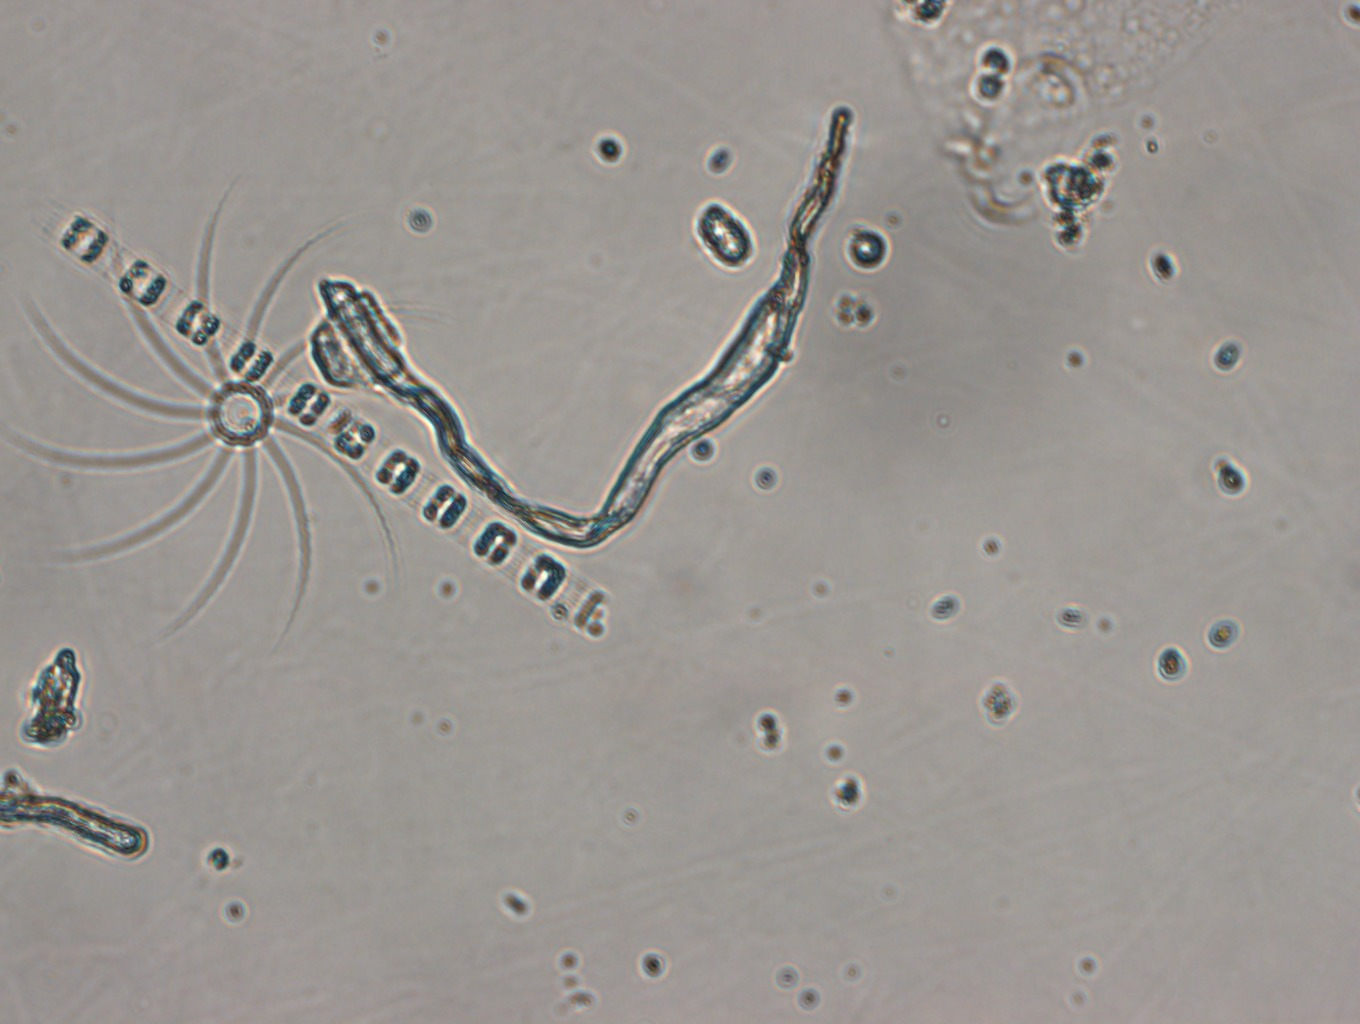bacteriastrum: (12, 211, 432, 634)
skeletonema: (52, 204, 610, 630)
